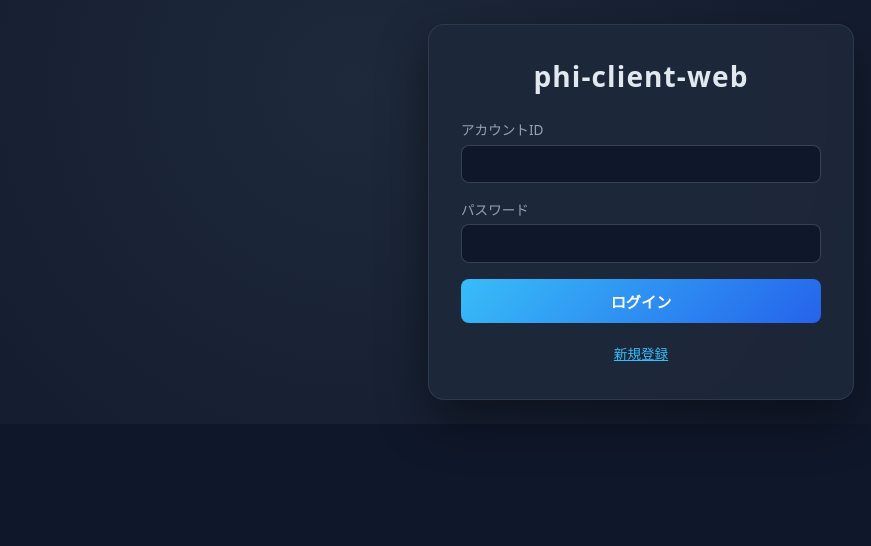
Test case: Login (A-34, アカウント+パスワード) › 新規登録: 409(既存)でエラー表示
Step 1. Click the button "新規登録" → (641, 353), box 461,339 -> 821,367
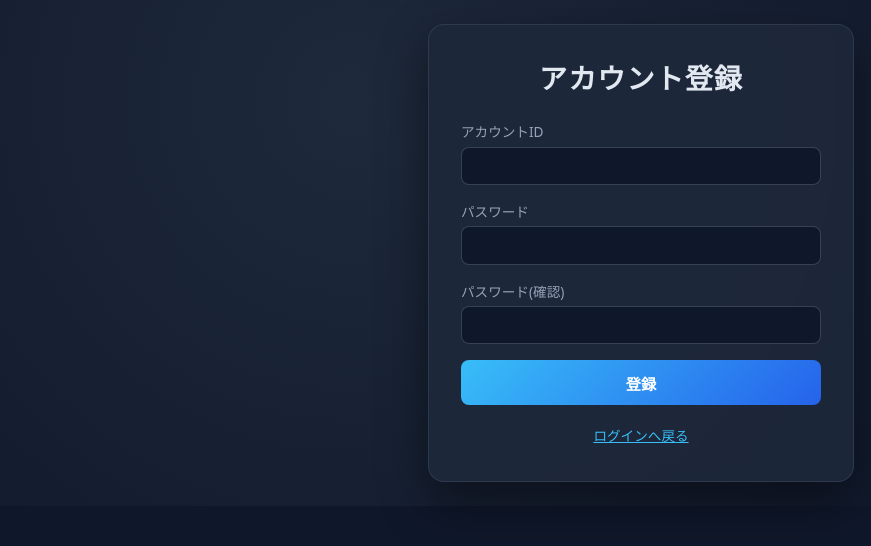
Step 2. Type "dup" into the field labelled "アカウントID" → (641, 166), box 461,147 -> 821,185
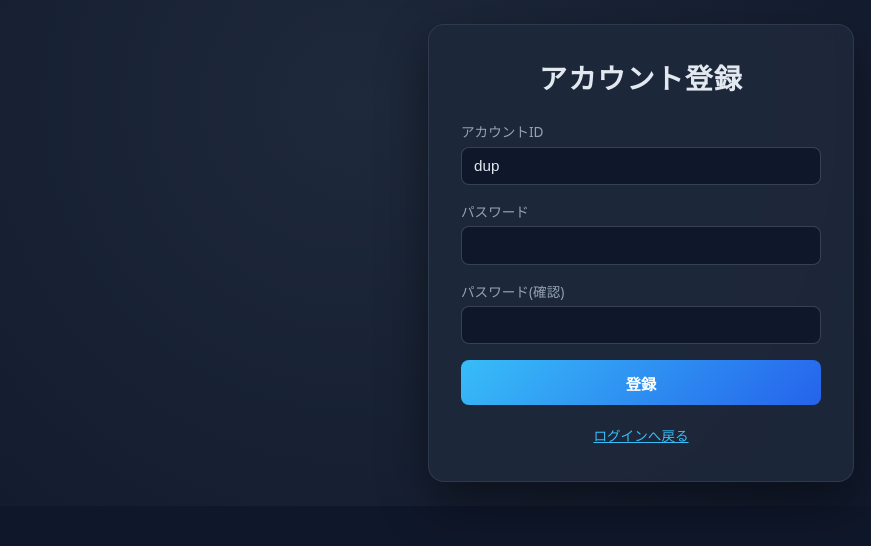
Step 3. Type "secret" into the password field labelled "パスワード" → (641, 246), box 461,226 -> 821,265
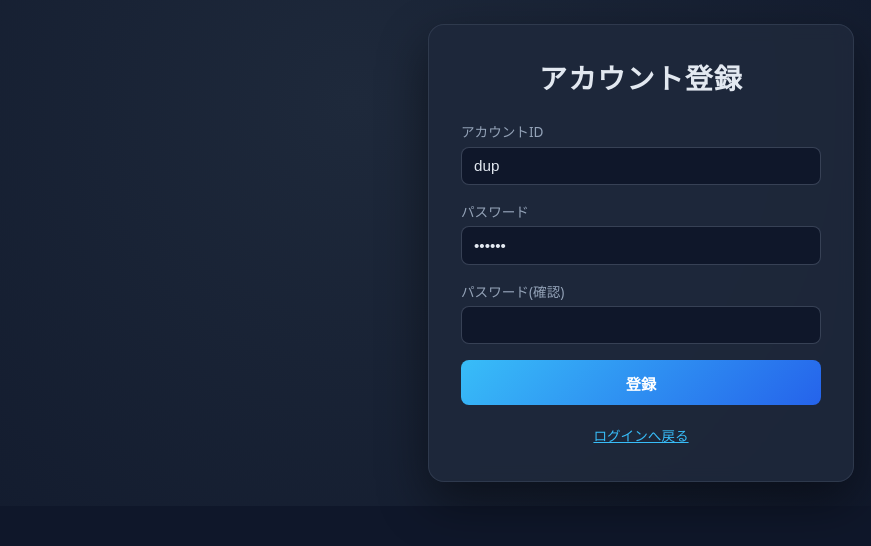
Step 4. Type "secret" into the password field labelled "パスワード(確認)" → (641, 325), box 461,306 -> 821,344
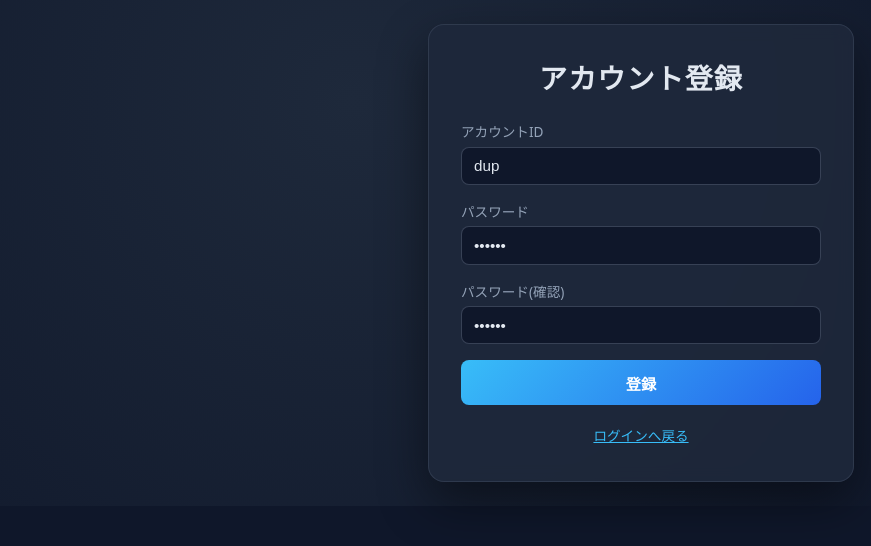
Step 5. Click the button "登録" → (641, 382), box 461,360 -> 821,405
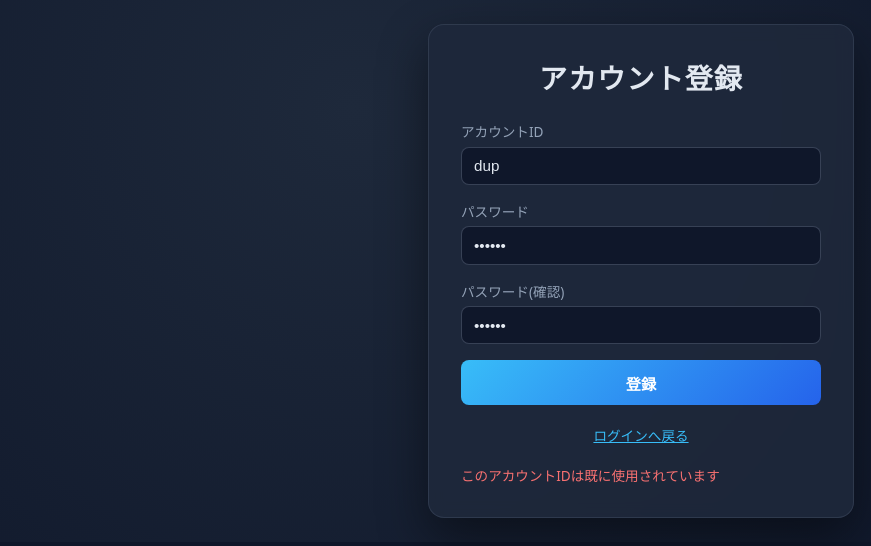
Expected: the message shows "既に使用", 461,466 -> 720,485
